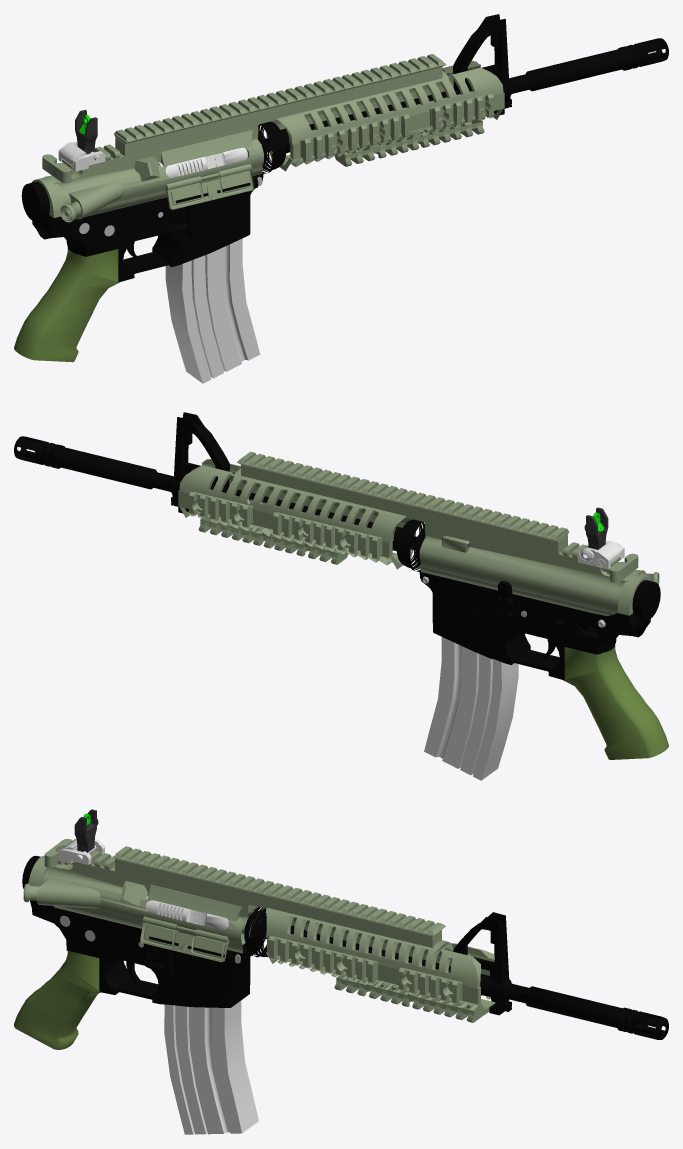
Rendered from gun.fbx.
3 renders of one model, top to bottom at view 1: azimuth 30°, elevation 25°; view 2: azimuth 150°, elevation 25°; view 3: azimuth 330°, elevation 25°, orthographic.
Parts seen in each view (by area): view 1: m4a1_upper receiver, m4a1_lower receiver, m4a1_magazine, m4a1_front sight, m4a1_bolt, m4a1_troy_rear_base, m4a1_troy_rear_post; view 2: m4a1_upper receiver, m4a1_lower receiver, m4a1_magazine, m4a1_front sight, m4a1_troy_rear_base, m4a1_troy_rear_post; view 3: m4a1_upper receiver, m4a1_lower receiver, m4a1_magazine, m4a1_front sight, m4a1_bolt, m4a1_troy_rear_post, m4a1_troy_rear_base.
Part boxes in pixels (<box>): m4a1_upper receiver: <box>31,38,668,222</box>; m4a1_lower receiver: <box>14,173,263,362</box>; m4a1_magazine: <box>165,238,259,383</box>; m4a1_front sight: <box>453,14,511,115</box>; m4a1_bolt: <box>158,147,247,177</box>; m4a1_troy_rear_base: <box>58,141,105,171</box>; m4a1_troy_rear_post: <box>75,109,97,154</box>; m4a1_upper receiver: <box>14,436,659,615</box>; m4a1_lower receiver: <box>419,570,668,759</box>; m4a1_magazine: <box>424,637,518,780</box>; m4a1_front sight: <box>171,412,229,513</box>; m4a1_troy_rear_base: <box>578,540,624,569</box>; m4a1_troy_rear_post: <box>584,507,608,549</box>; m4a1_upper receiver: <box>23,839,668,1039</box>; m4a1_lower receiver: <box>14,855,262,1049</box>; m4a1_magazine: <box>164,1000,258,1134</box>; m4a1_front sight: <box>453,912,511,1015</box>; m4a1_bolt: <box>145,896,228,930</box>; m4a1_troy_rear_post: <box>74,809,98,852</box>; m4a1_troy_rear_base: <box>58,839,104,864</box>.
Size of the model in its own units: 62.43 by 26.61 by 7.3.
